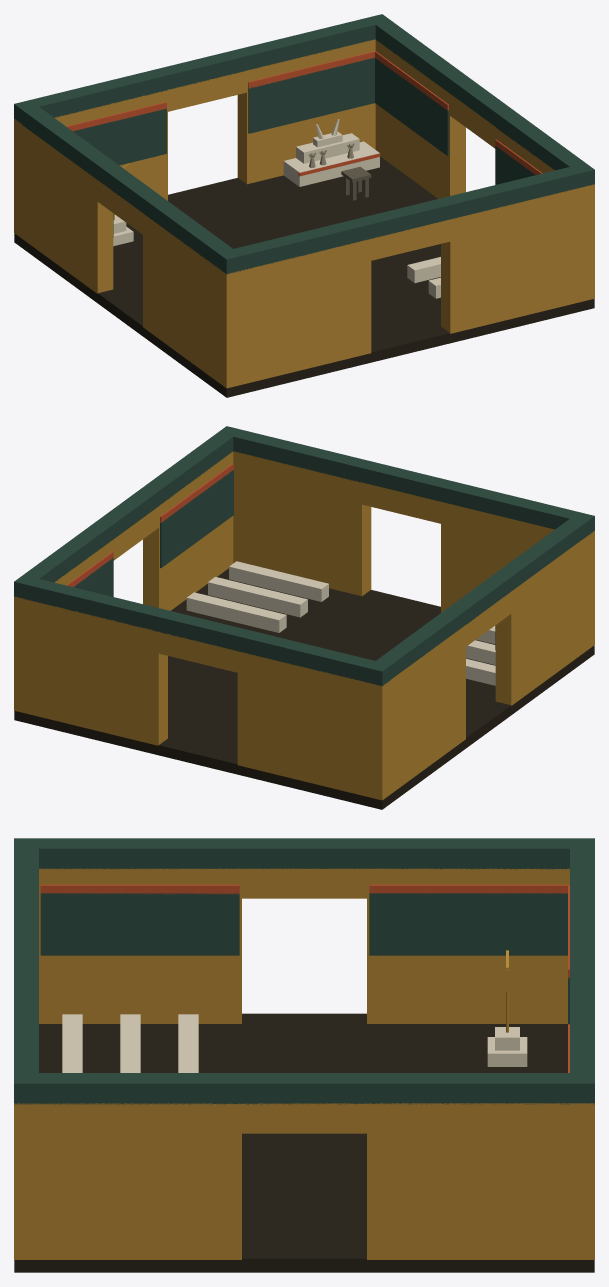
File: BronzeShrine.fbx
The picture shows the model from 3 angles, top to bottom: view 1: azimuth 30°, elevation 25°; view 2: azimuth 150°, elevation 25°; view 3: azimuth 270°, elevation 25°; orthographic projection. The views are drawn at different scales.
Visible parts, largest first — view 1: BronzeShrine; view 2: BronzeShrine; view 3: BronzeShrine.
Part boxes in pixels (<box>): BronzeShrine: <box>14,14,594,397</box>; BronzeShrine: <box>14,426,594,809</box>; BronzeShrine: <box>14,838,594,1272</box>.
Size of the model in its own units: 1202 by 432 by 1202.
Materials: 7 (7 with a texture image).
